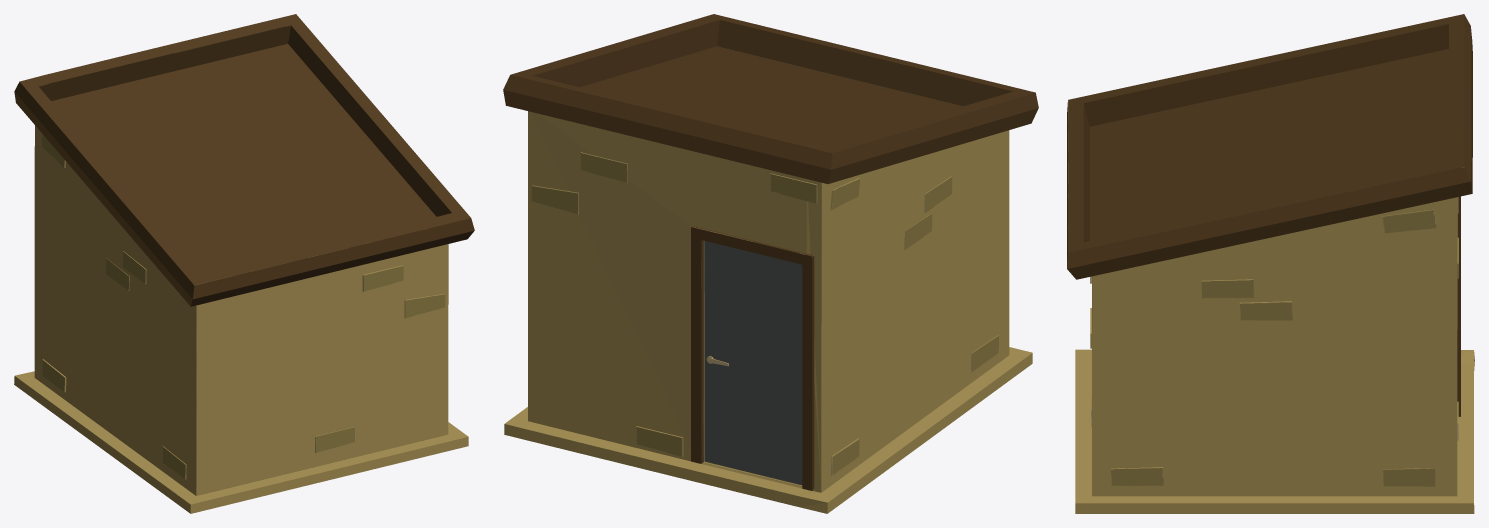
File: HOS0510001.fbx
3 views of the same model, side by side, from view 1: azimuth 30°, elevation 25°; view 2: azimuth 150°, elevation 25°; view 3: azimuth 270°, elevation 25° (orthographic). The views are drawn at different scales.
Parts seen in each view (by area): view 1: smHOS0510001; view 2: smHOS0510001; view 3: smHOS0510001.
Part boxes in pixels (x1=…): smHOS0510001: x1=14, y1=14, x2=474, y2=513; smHOS0510001: x1=503, y1=14, x2=1038, y2=513; smHOS0510001: x1=1067, y1=14, x2=1474, y2=513.
Bounding box in the file's own units: 290 × 302 × 321.
1 material, 1 textured.
